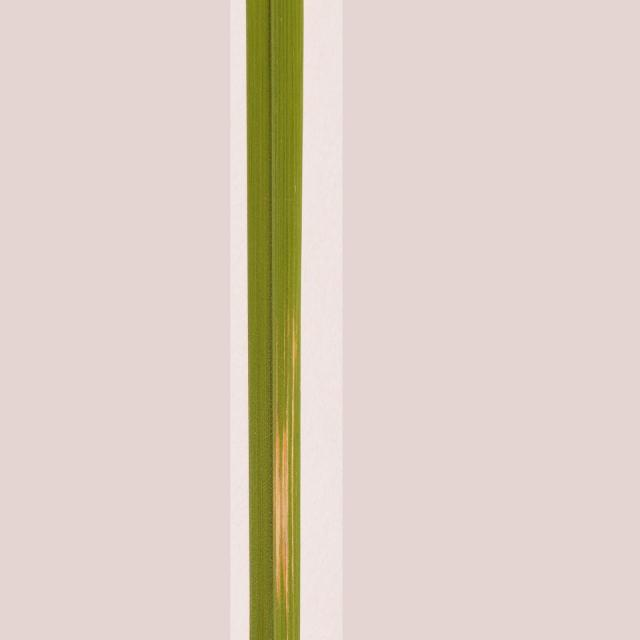Bacterial leaf blight: (230, 0, 338, 640)
